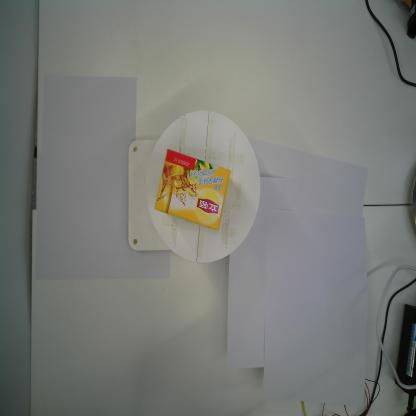Instant Drink: (153, 146, 232, 232)
